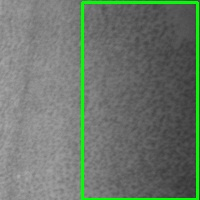pitted_surface: (82, 2, 197, 199)
